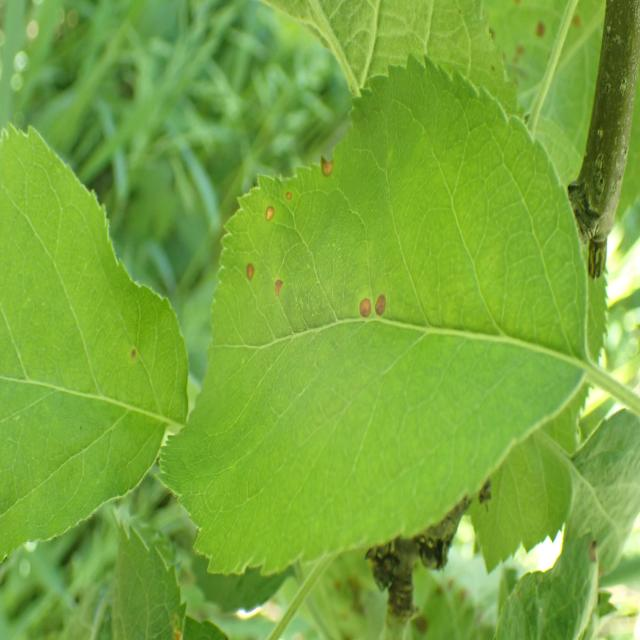Black Rot: (348, 270, 374, 330), (521, 6, 554, 53), (306, 142, 343, 180), (277, 176, 298, 228), (372, 293, 399, 333), (270, 276, 301, 309), (237, 256, 266, 290), (257, 198, 280, 232)
